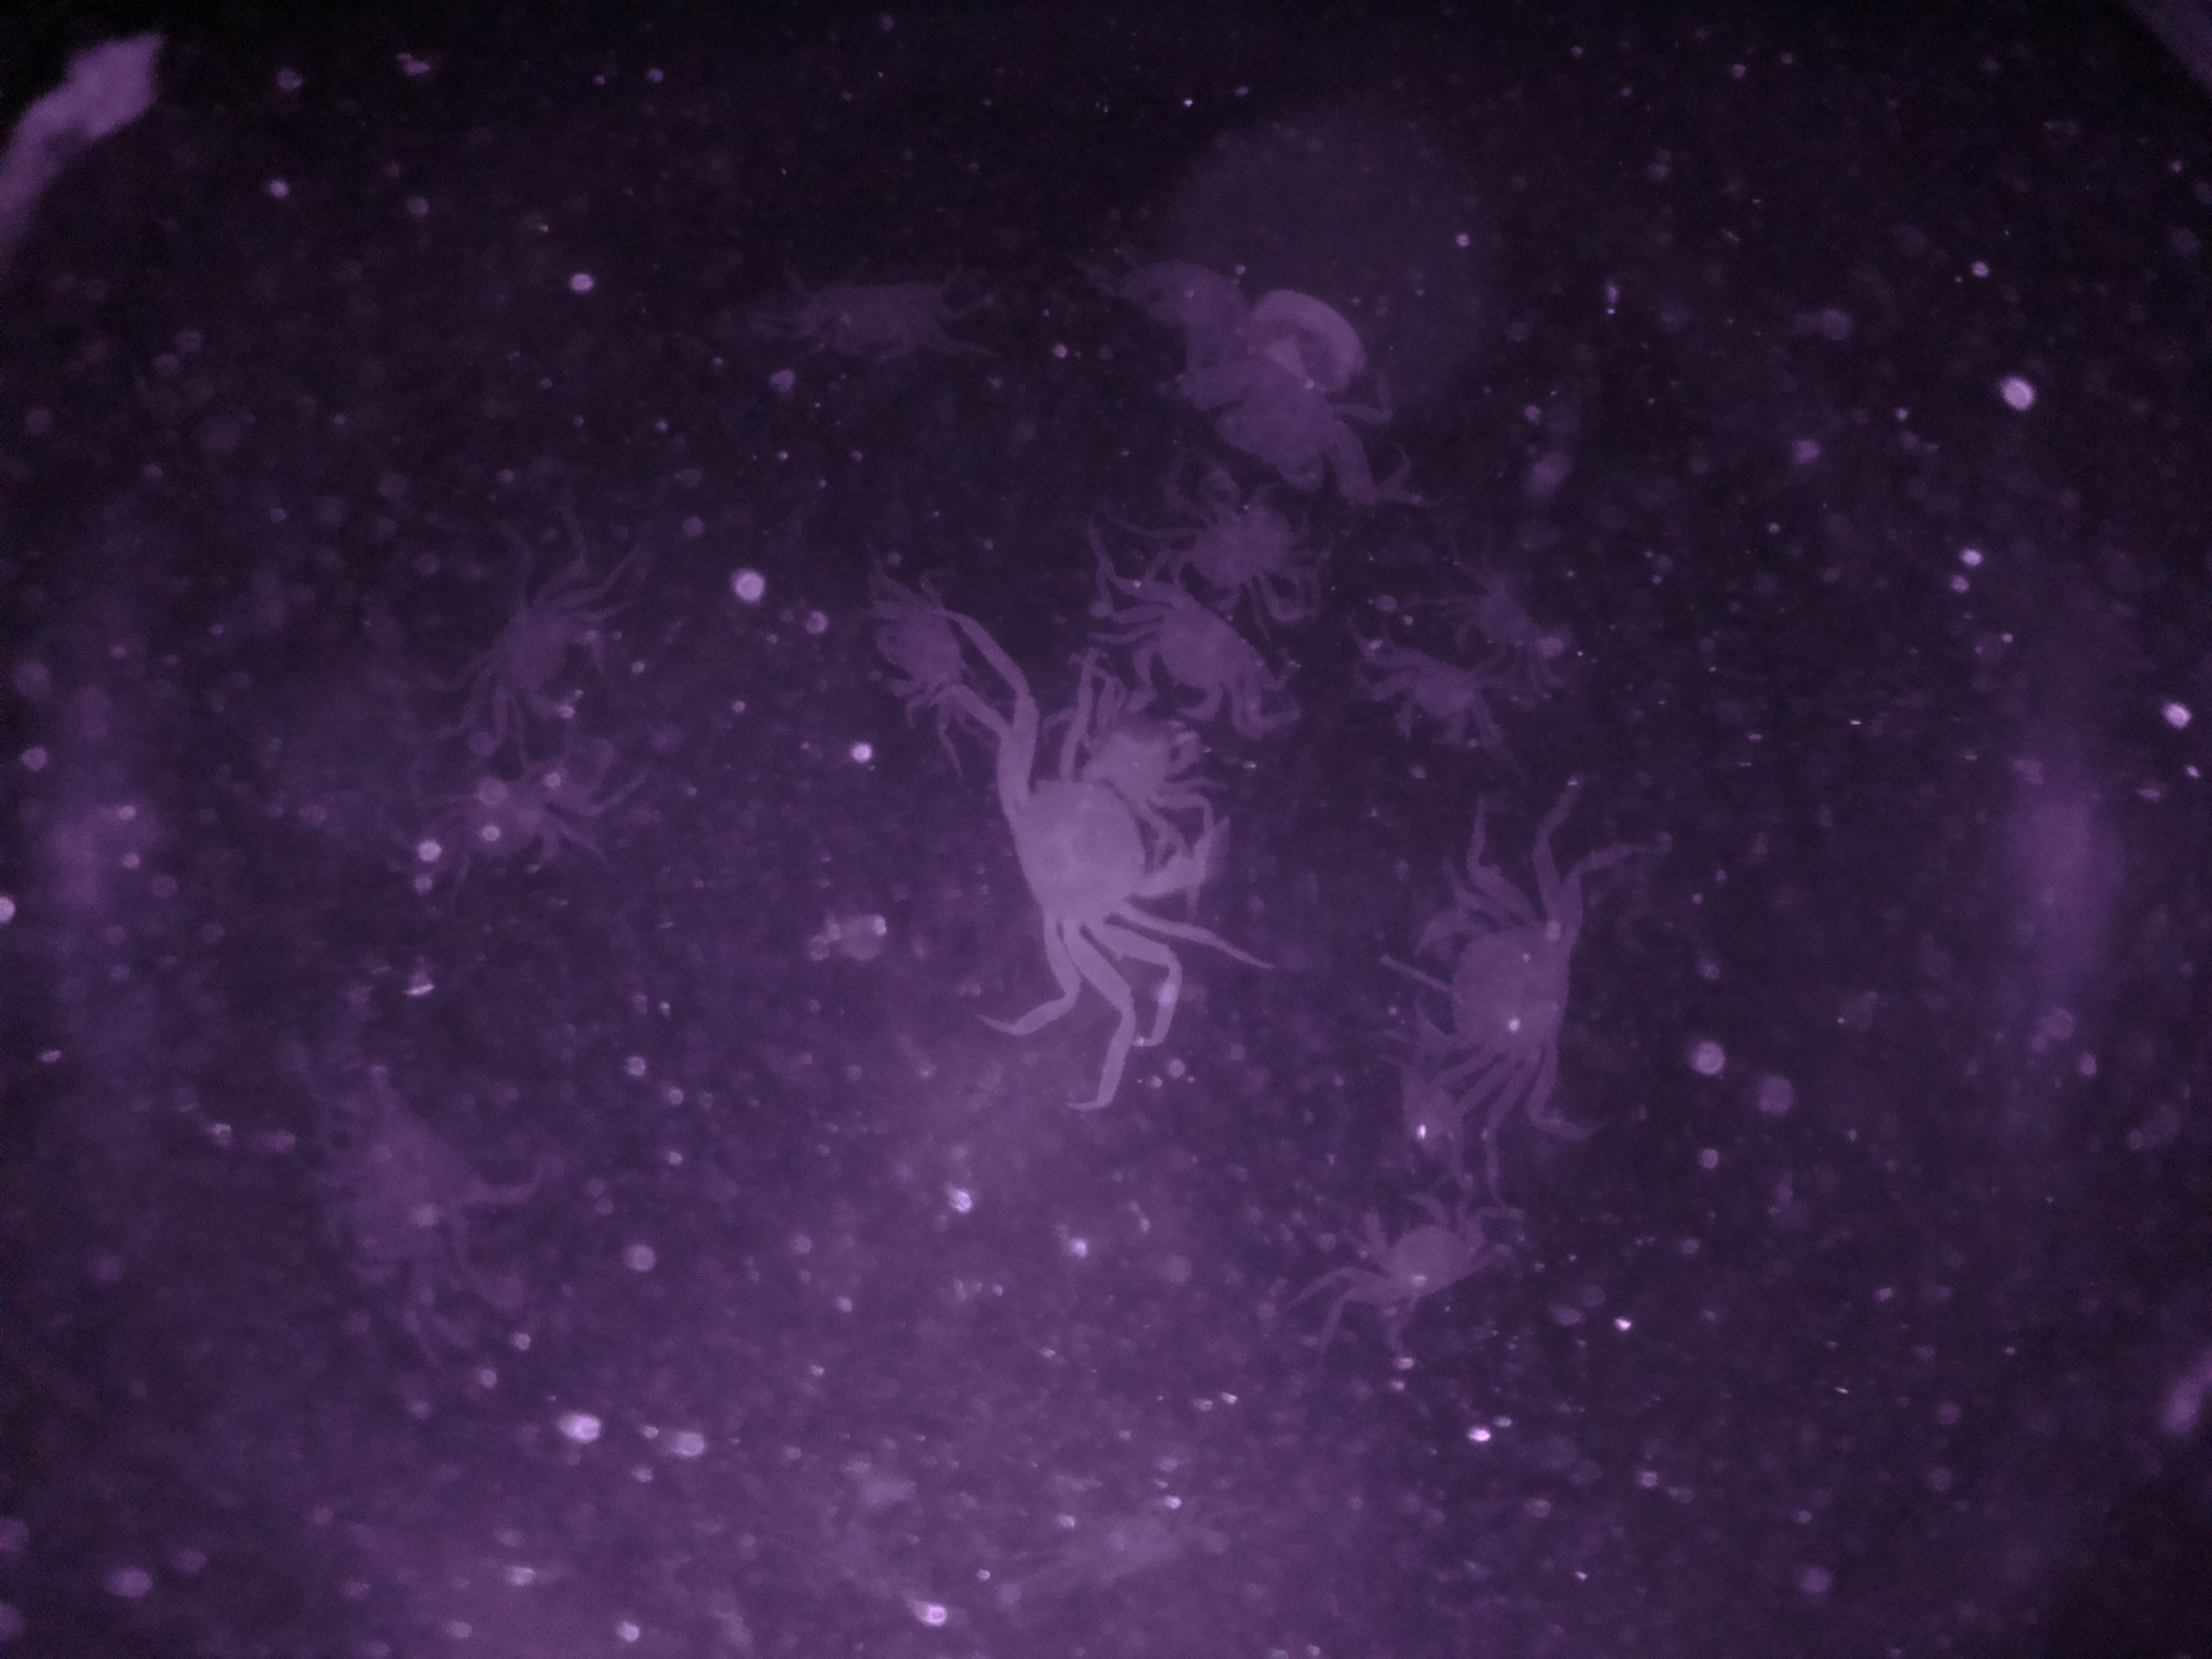Crab: (1395, 871, 1620, 1098), (1324, 1168, 1524, 1328), (1109, 579, 1291, 741)
